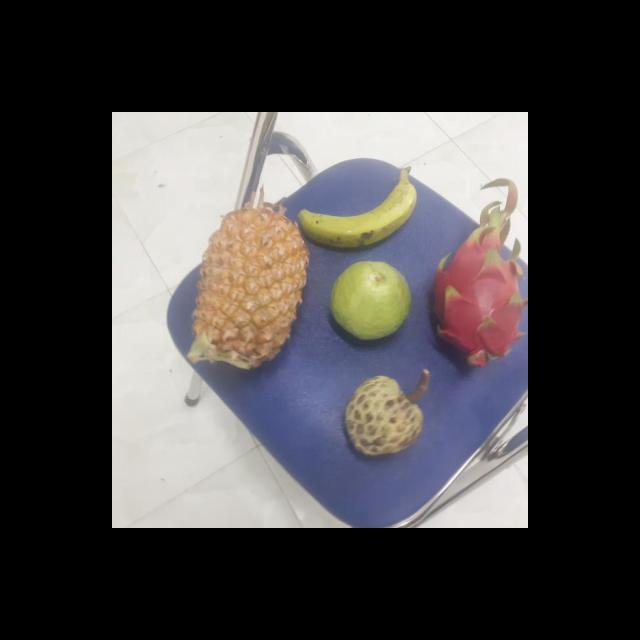Sakya fruit: (339, 376, 424, 457)
banana: (297, 165, 413, 252)
guava: (326, 261, 410, 341)
pineapple: (190, 212, 306, 374)
pitaya: (423, 228, 528, 371)
